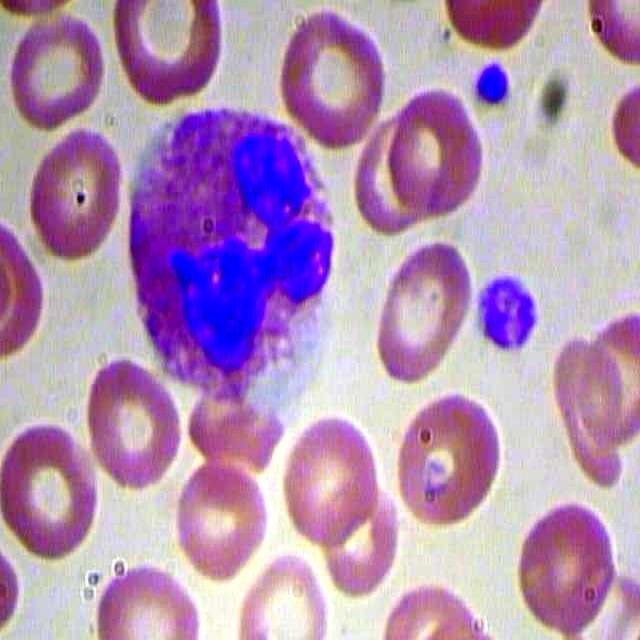Platelets: (472, 268, 540, 357), (470, 57, 516, 112)
RBC: (364, 231, 479, 385), (274, 8, 389, 157), (25, 120, 127, 279), (501, 493, 613, 628), (392, 395, 504, 529), (177, 441, 273, 588), (1, 419, 96, 565), (6, 1, 108, 131), (86, 354, 183, 490), (388, 83, 486, 217), (283, 408, 380, 541), (109, 1, 232, 103), (90, 550, 202, 638), (233, 549, 324, 639)
WBC: (114, 88, 351, 392)
